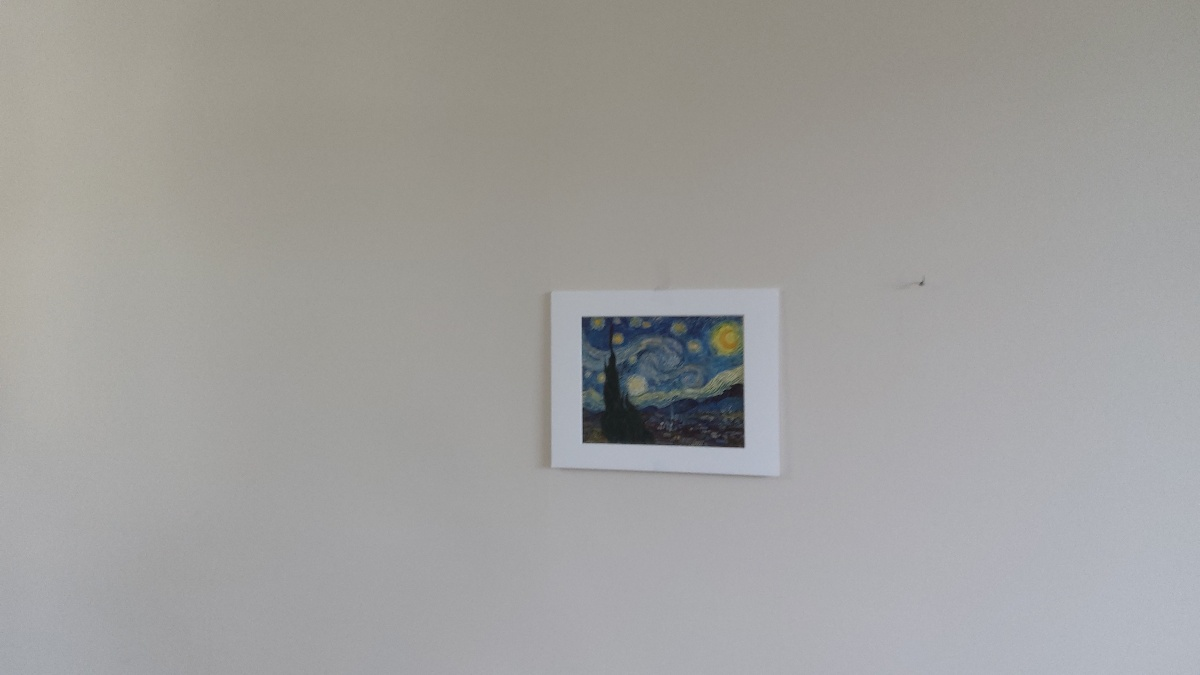painting: (571, 303, 751, 457)
